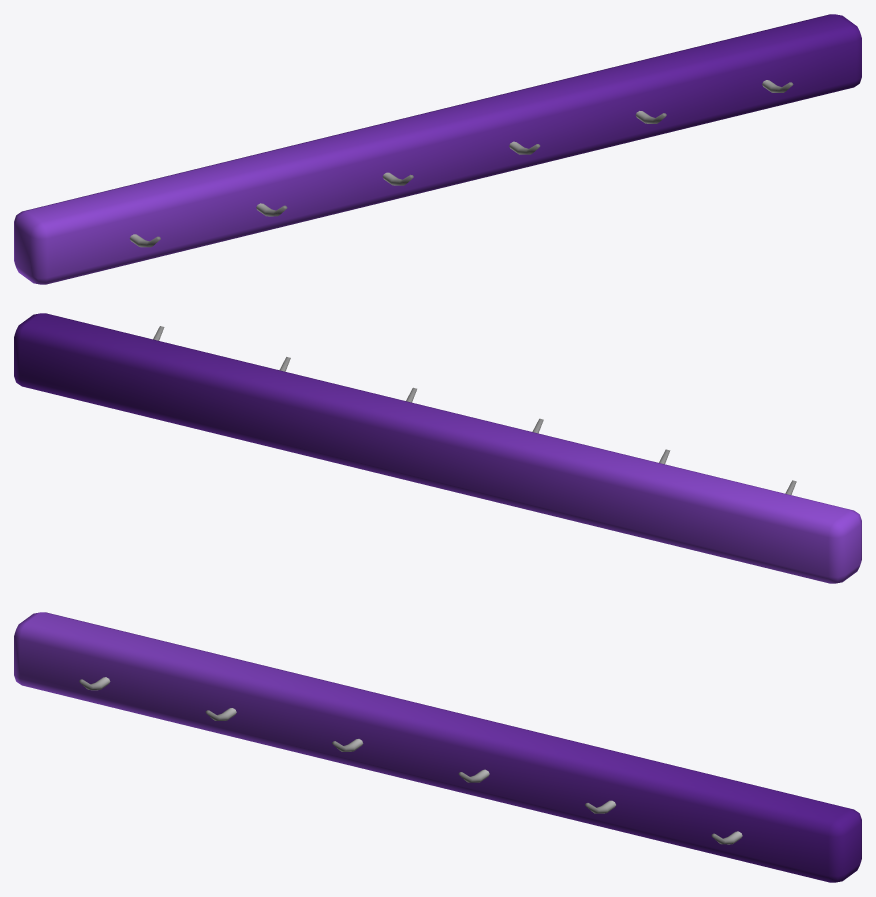
Rendered from Utensil Rack_1.fbx.
The picture shows the model from 3 angles, top to bottom: view 1: azimuth 30°, elevation 25°; view 2: azimuth 150°, elevation 25°; view 3: azimuth 330°, elevation 25°; orthographic projection.
Visible parts, largest first — view 1: Utensil Rack_1; view 2: Utensil Rack_1; view 3: Utensil Rack_1.
Boxes of the visible parts, bbox=[...] form: Utensil Rack_1: bbox=[14, 14, 861, 284]; Utensil Rack_1: bbox=[14, 313, 861, 583]; Utensil Rack_1: bbox=[14, 612, 861, 882].
Size of the model in its own units: 0.7451 by 0.0536 by 0.0831.
